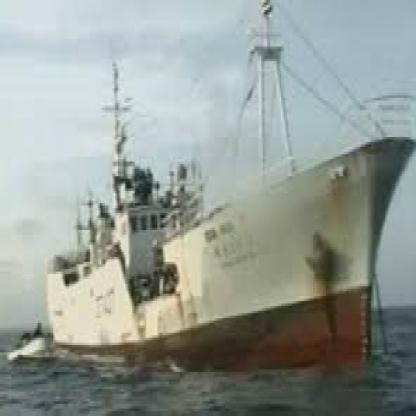fish-b: (35, 0, 415, 382)
